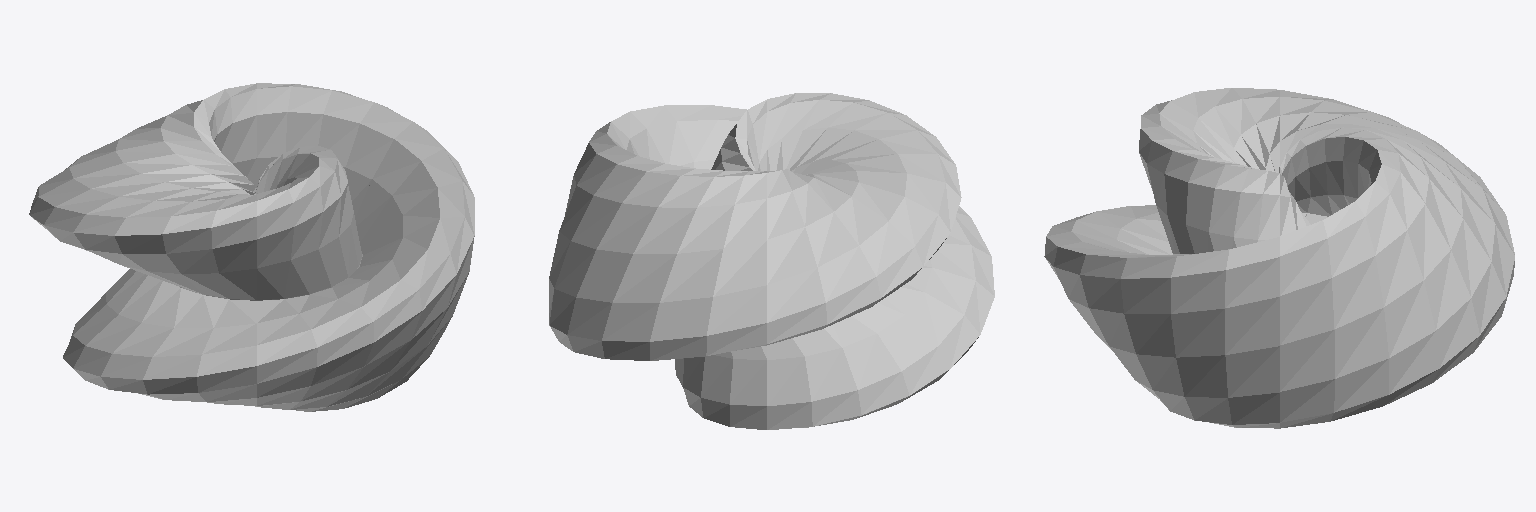
The model's file is klein.obj.
3 views of the same model, side by side, from view 1: azimuth 30°, elevation 25°; view 2: azimuth 150°, elevation 25°; view 3: azimuth 270°, elevation 25° (orthographic).
Parts seen in each view (by area): view 1: XYZ_Function, XYZ_Function.001; view 2: XYZ_Function, XYZ_Function.001; view 3: XYZ_Function, XYZ_Function.001.
Part boxes in pixels (x1,y1,x2,y2): XYZ_Function: (29, 83, 474, 411); XYZ_Function.001: (29, 83, 474, 411); XYZ_Function: (549, 93, 994, 429); XYZ_Function.001: (549, 93, 994, 429); XYZ_Function: (1044, 88, 1514, 428); XYZ_Function.001: (1045, 88, 1514, 428).
Size of the model in its own units: 4.01 by 2.45 by 4.45.